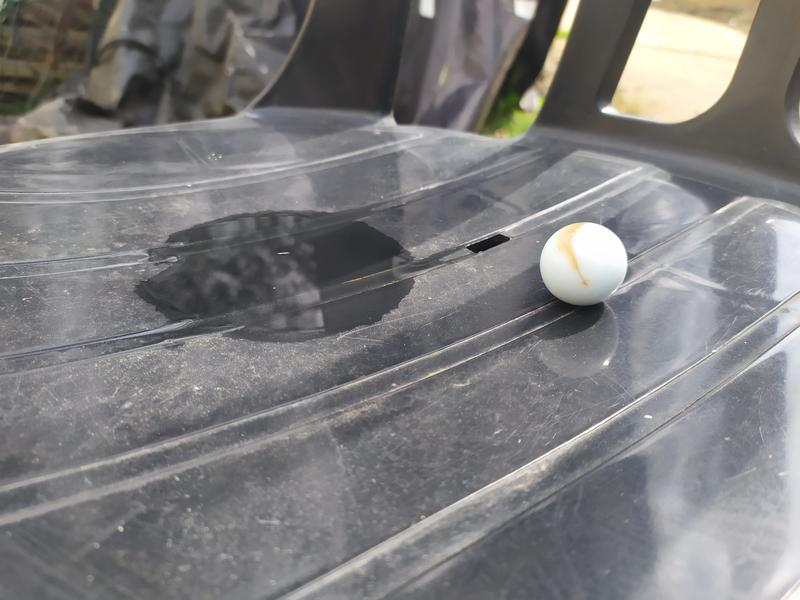Warning: (537, 219, 630, 308)
